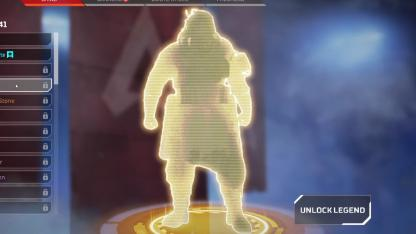Target: (139, 9, 261, 194)
